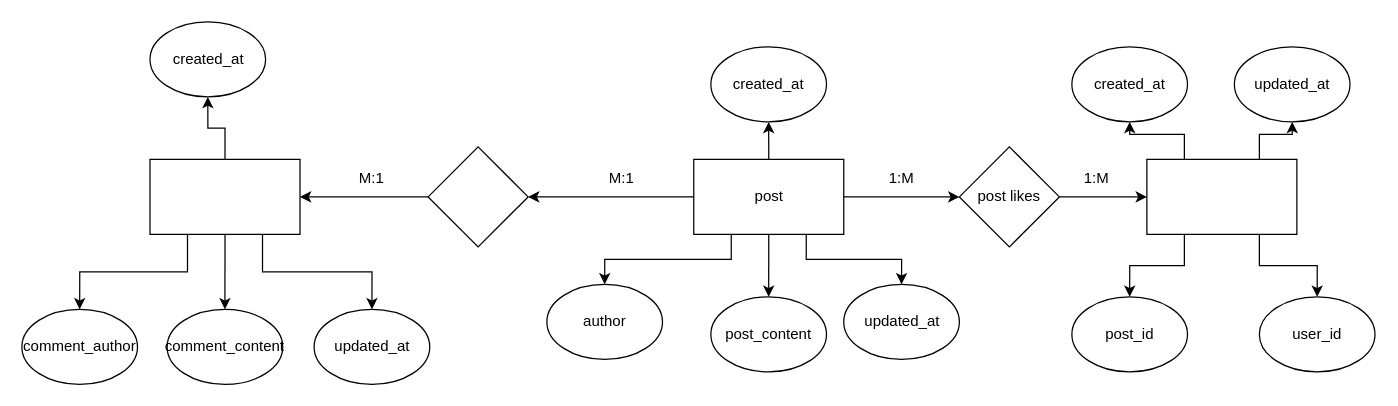
Image size: 1398x406. Some labels were removed from this diagram. The shapes that lost their labels are listed below. From the top down, each one's centre as x and y in pixels, then its label:
[224,196]: comment
[477,196]: post comments
[1221,196]: like
